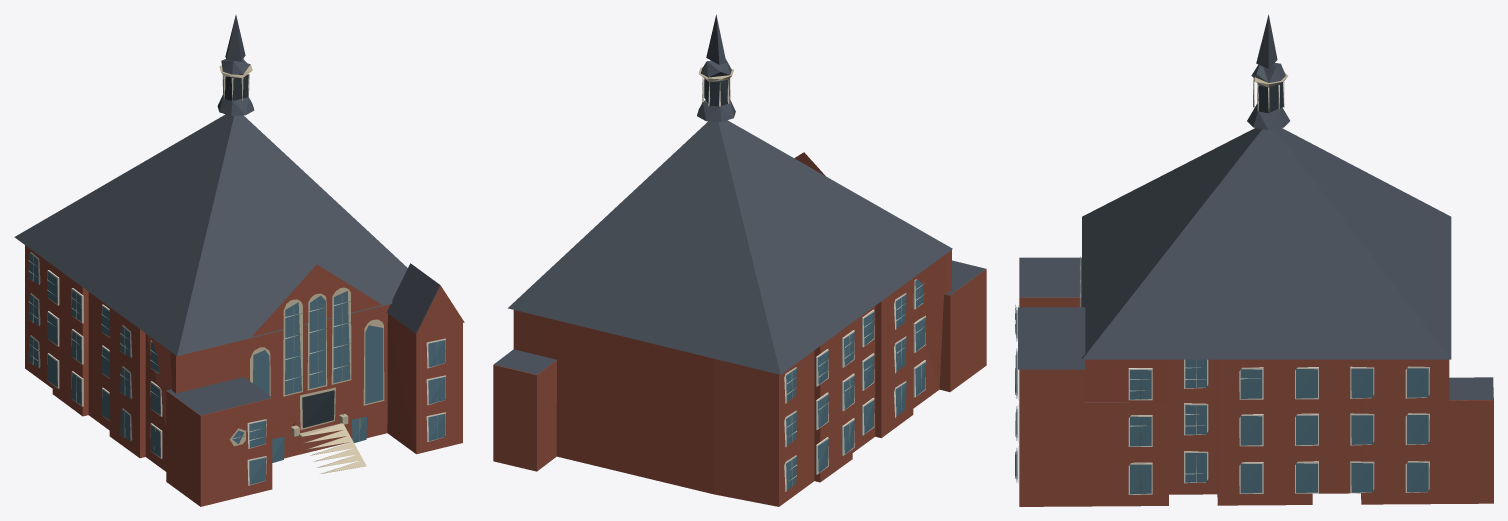
File: orgelpark.lod1.glb
The picture shows the model from 3 angles, left to right: view 1: azimuth 30°, elevation 25°; view 2: azimuth 150°, elevation 25°; view 3: azimuth 270°, elevation 25°; orthographic projection. The views are drawn at different scales.
Visible parts, largest first — view 1: orgelpark; view 2: orgelpark; view 3: orgelpark.
Part boxes in pixels (box(x1,y1,x2,y2)): orgelpark: box(14, 15, 464, 506); orgelpark: box(493, 14, 986, 506); orgelpark: box(1015, 14, 1493, 506).
Size of the model in its own units: 26.17 by 35.81 by 36.3.
